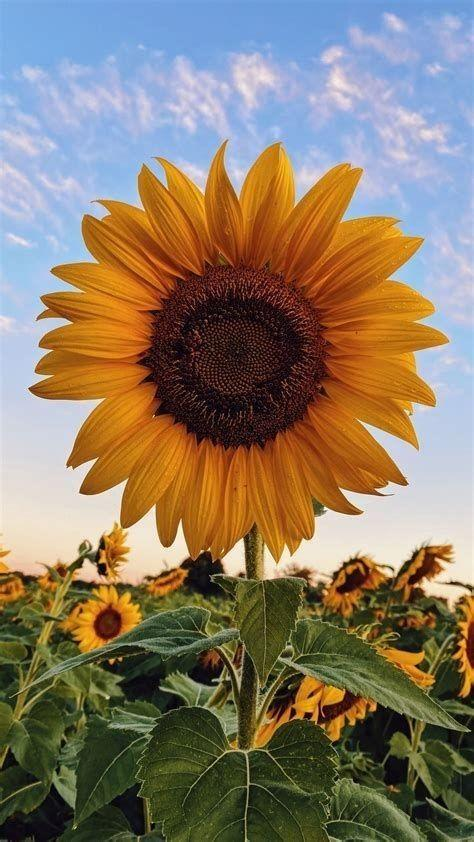sunflower: (27, 136, 449, 564)
